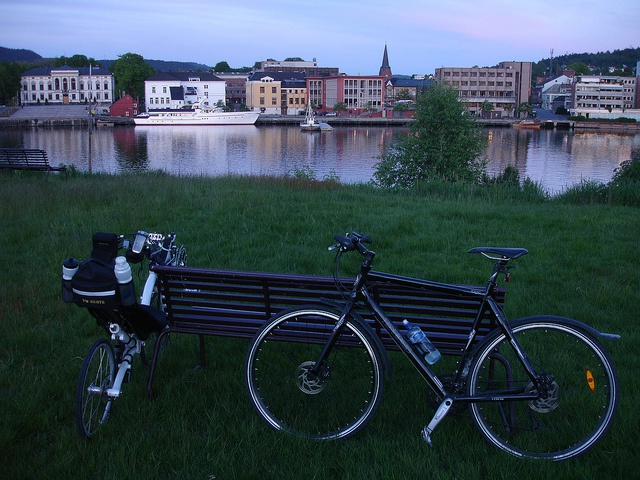non-vehicle: (247, 228, 617, 462), (60, 232, 190, 441)
